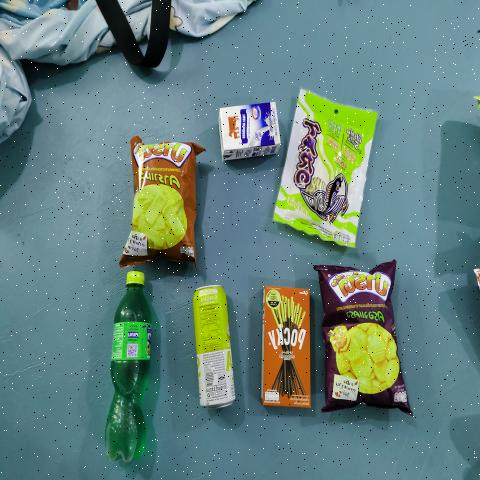fanta_green: (100, 271, 151, 464)
party_purple: (325, 275, 388, 398)
party_red: (134, 142, 190, 258)
pokki: (262, 288, 311, 406)
singha_yellow: (192, 279, 232, 416)
taro_yellow: (283, 82, 360, 246)
thai_denmark: (220, 98, 277, 162)
